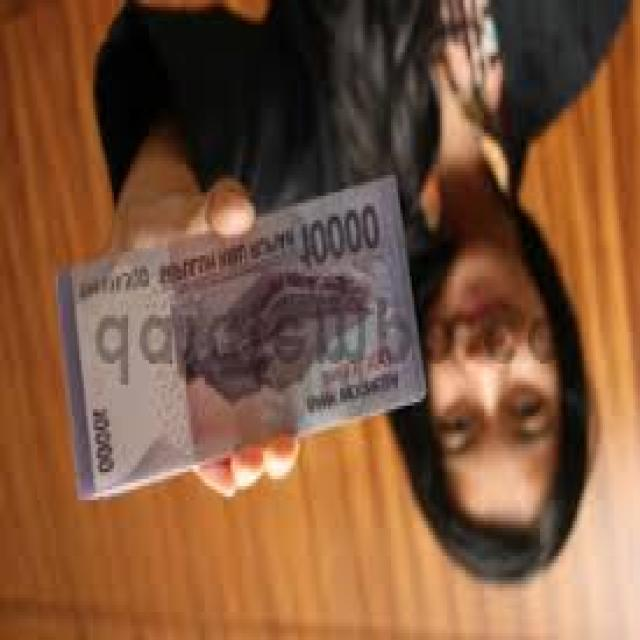sepuluh ribu rupiah: (55, 173, 429, 502)
